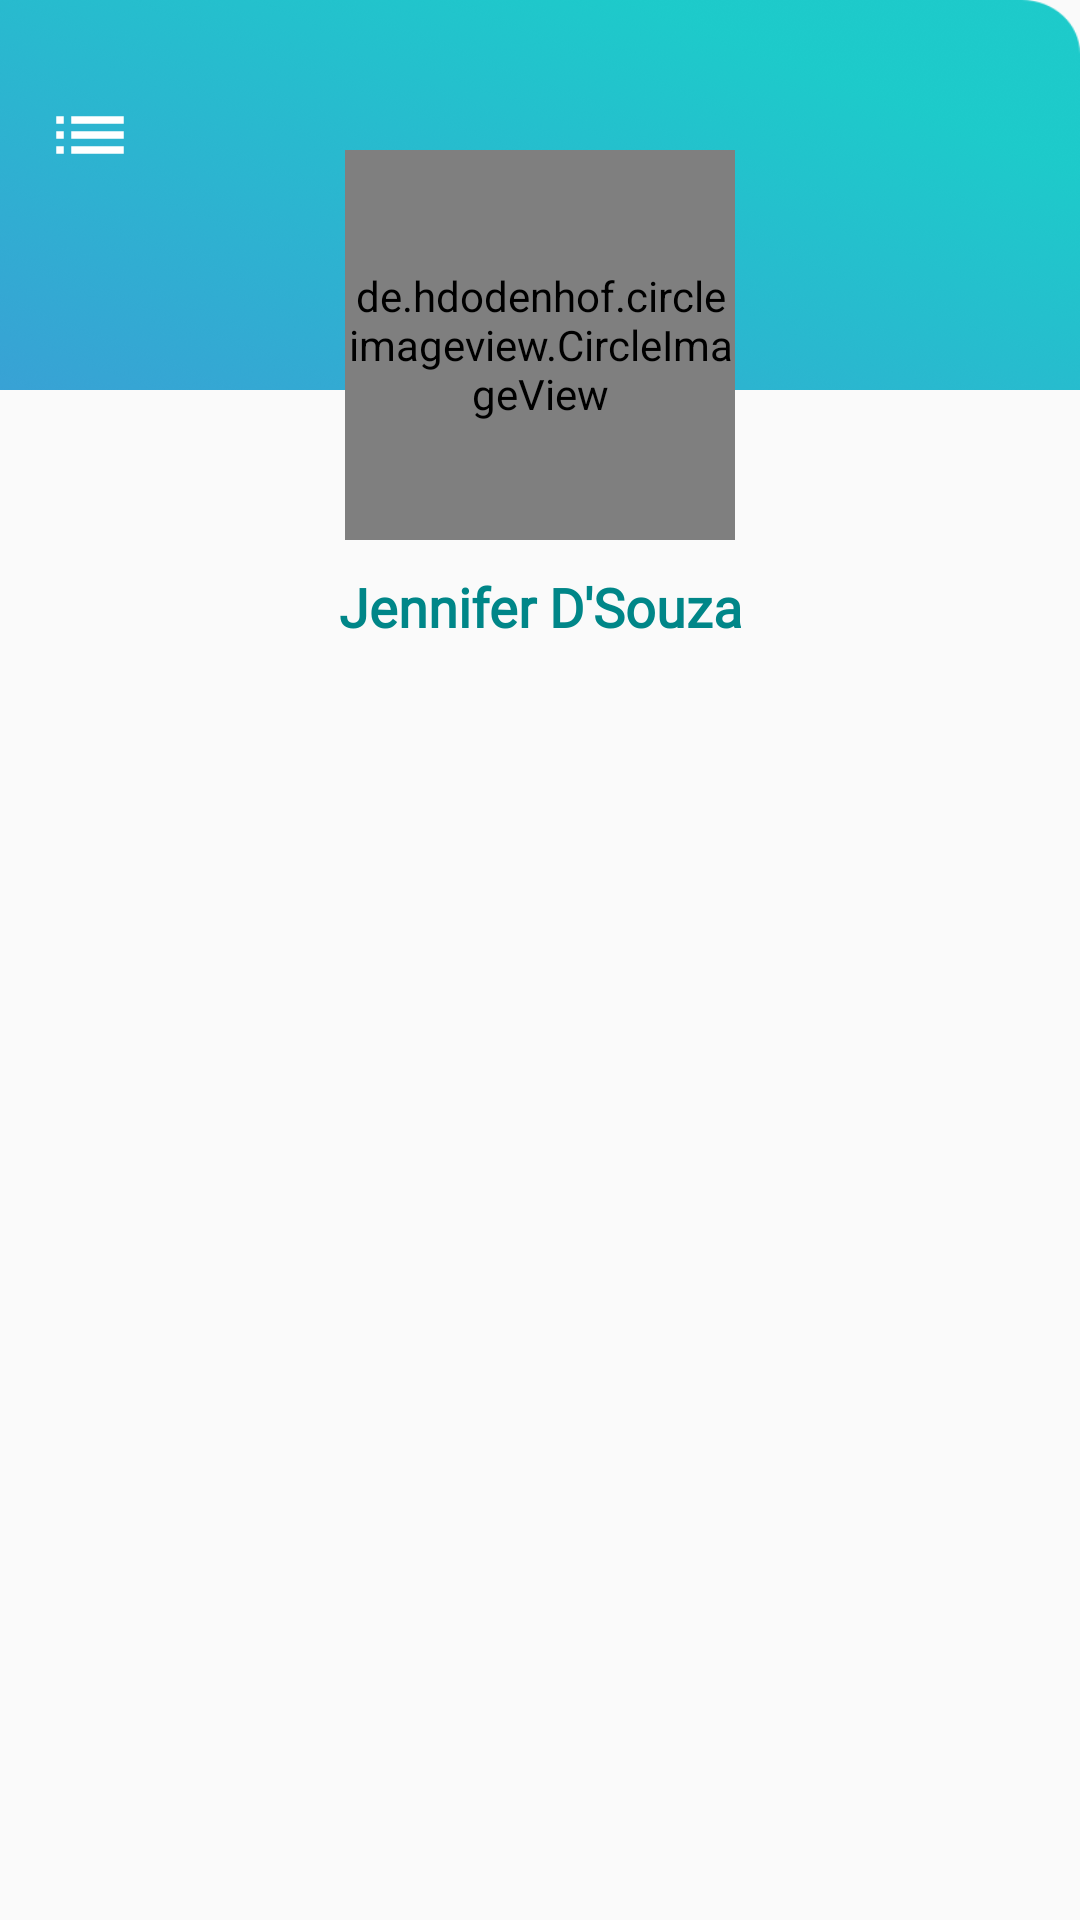

Screen size 1080 × 1920. Icon name, then its center in pixels as (x=x, y=y):
list: (x=90, y=135)
